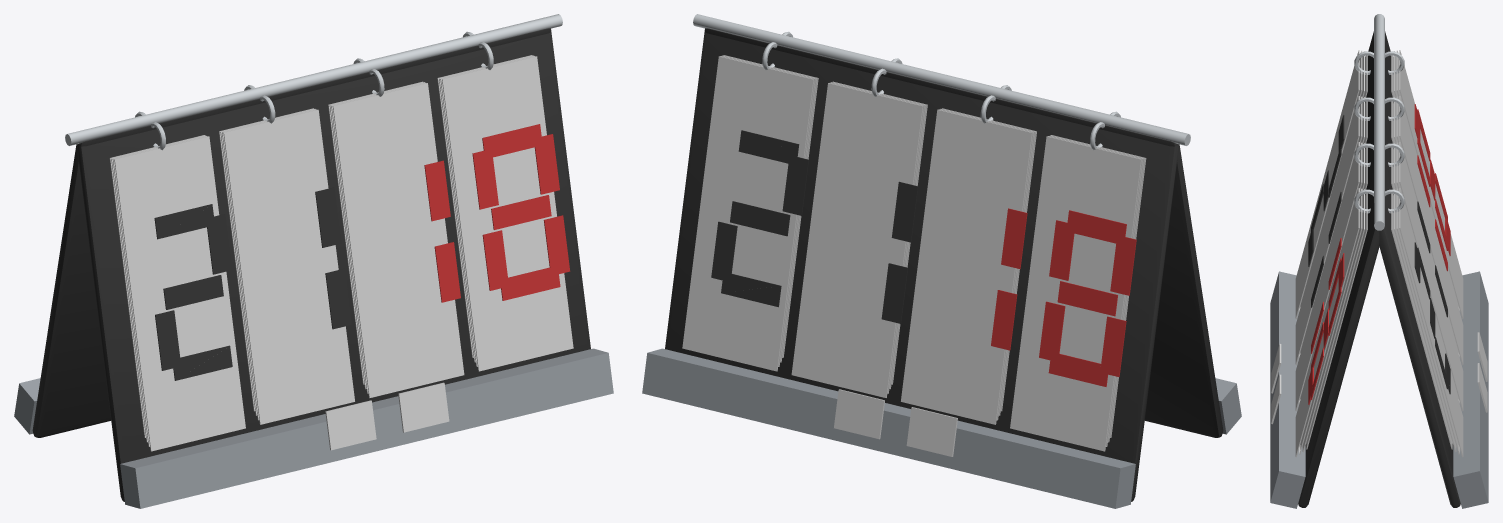
File: vinish-flip-scoreboard.glb
The picture shows the model from 3 angles, left to right: view 1: azimuth 30°, elevation 25°; view 2: azimuth 150°, elevation 25°; view 3: azimuth 270°, elevation 25°; orthographic projection. The views are drawn at different scales.
Visible parts, largest first — view 1: Flip_Scoreboard; view 2: Flip_Scoreboard; view 3: Flip_Scoreboard.
Boxes of the visible parts, x1=… form: Flip_Scoreboard: x1=14, y1=14, x2=613, y2=508; Flip_Scoreboard: x1=642, y1=14, x2=1241, y2=508; Flip_Scoreboard: x1=1270, y1=14, x2=1488, y2=508.
Bounding box in the file's own units: 0.54 × 0.3555 × 0.2404.
